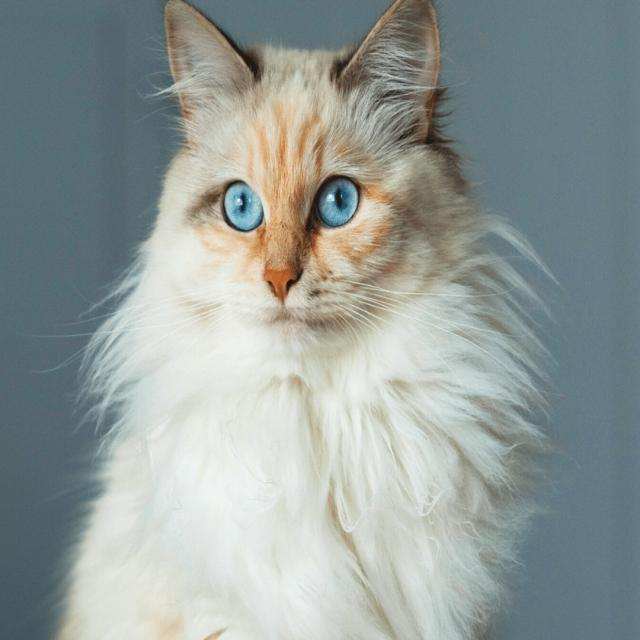Neva Masquerade: (45, 0, 552, 640)
